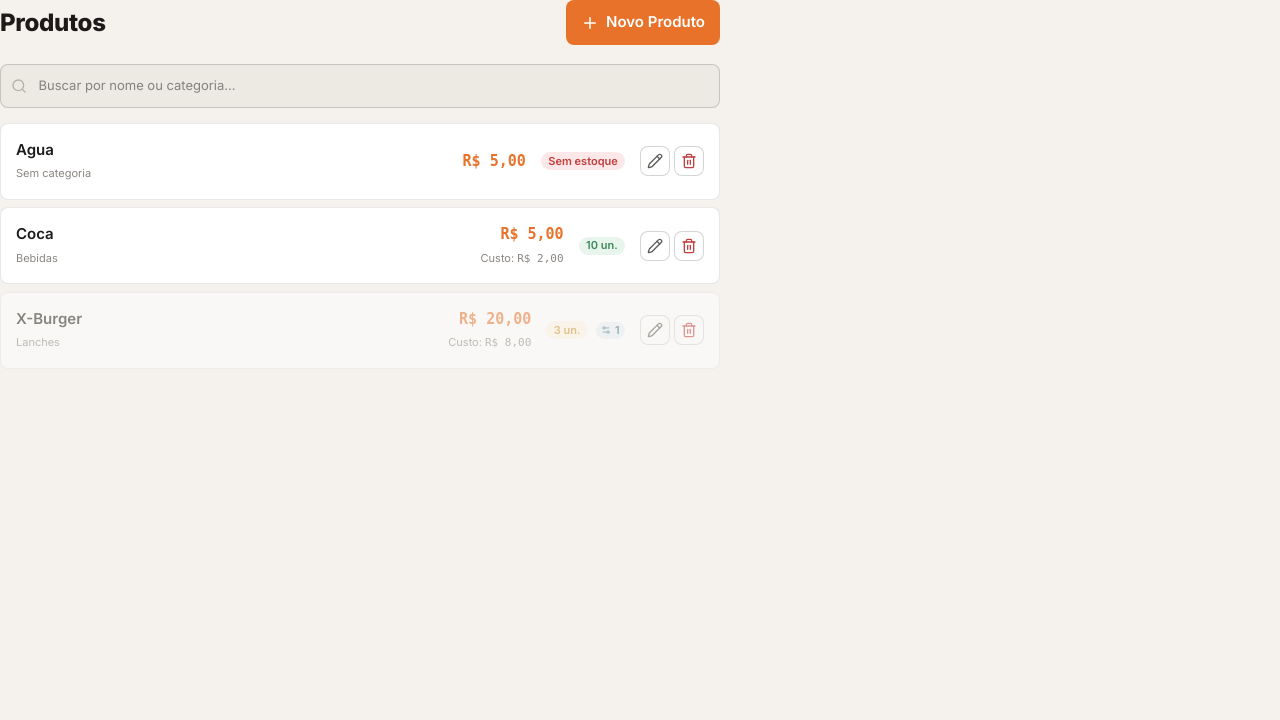
Test: ProductsPage › edits an existing product, toggling status to inactive
Expected: the text "Coca" is shown, [16, 224, 54, 243]
Click the button named "Editar Coca". click: (655, 246)
box: [640, 231, 670, 261]
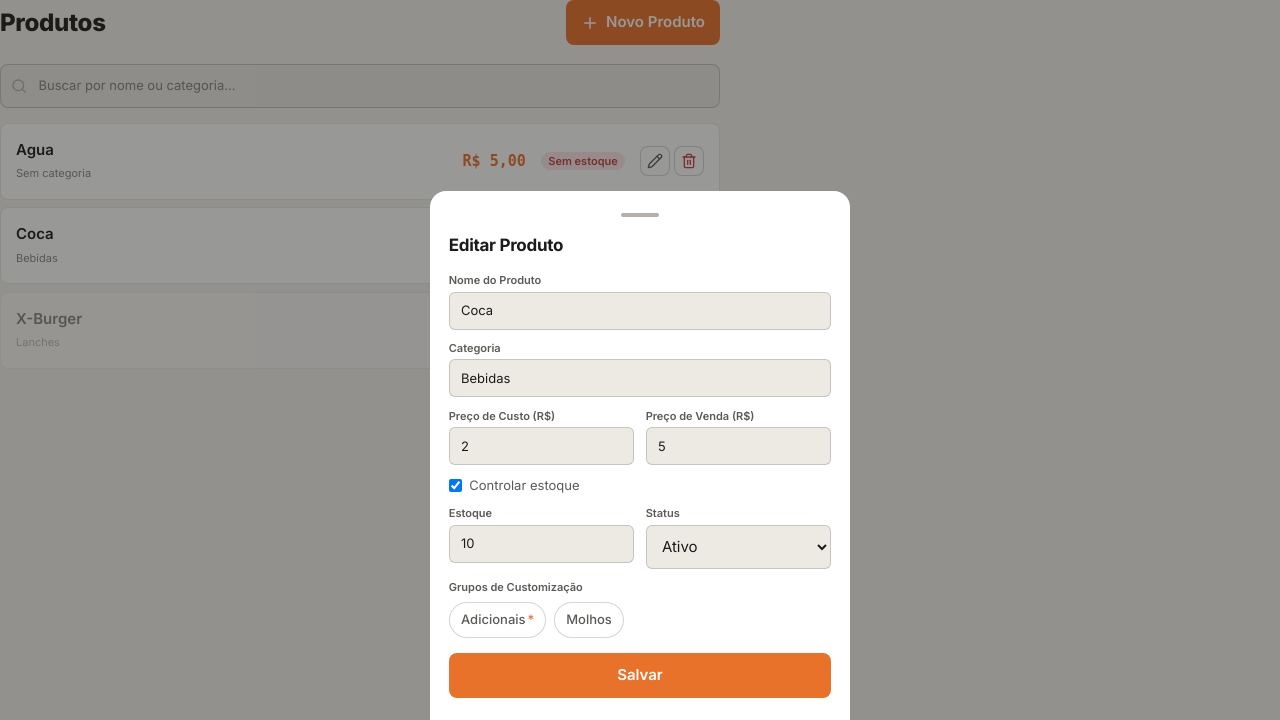
Expected: the field labelled "Nome do Produto" holds "Coca", [449, 292, 831, 330]
Select "Inativo" in the dropdown labelled "Status". click: (738, 546)
box: [646, 524, 831, 568]
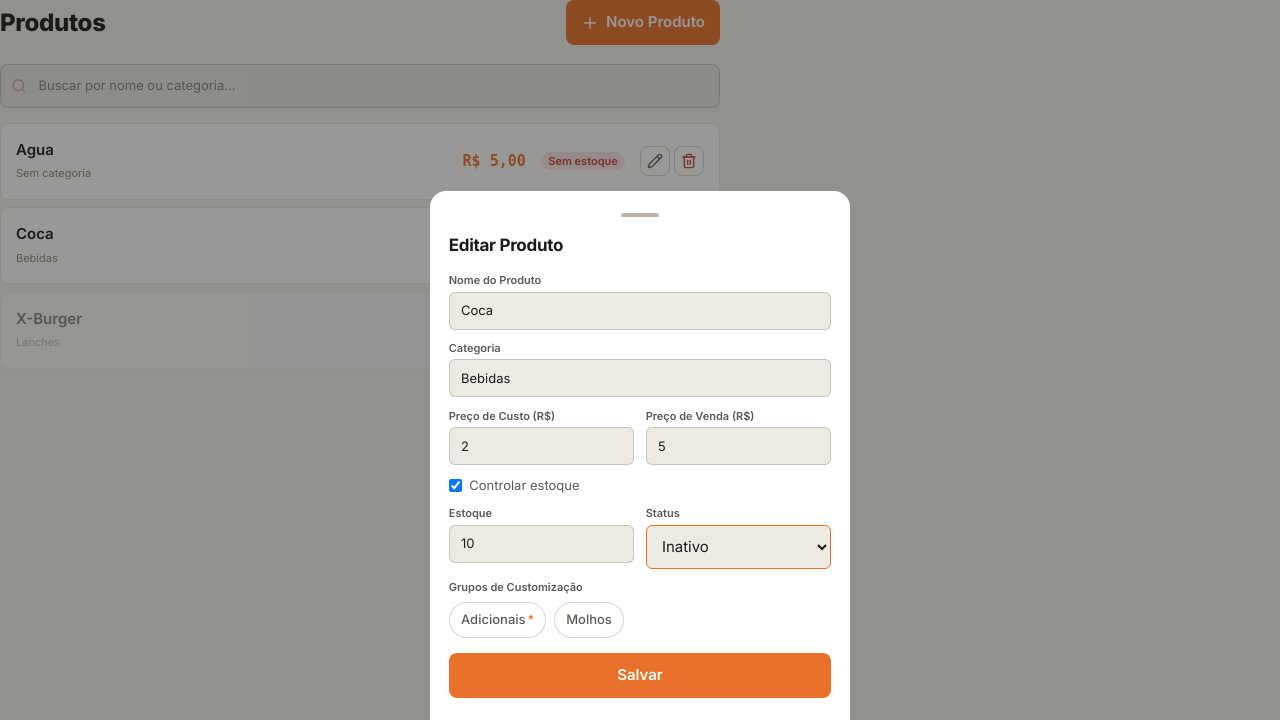
Click the button "Salvar". click: (640, 675)
box: [449, 652, 831, 698]
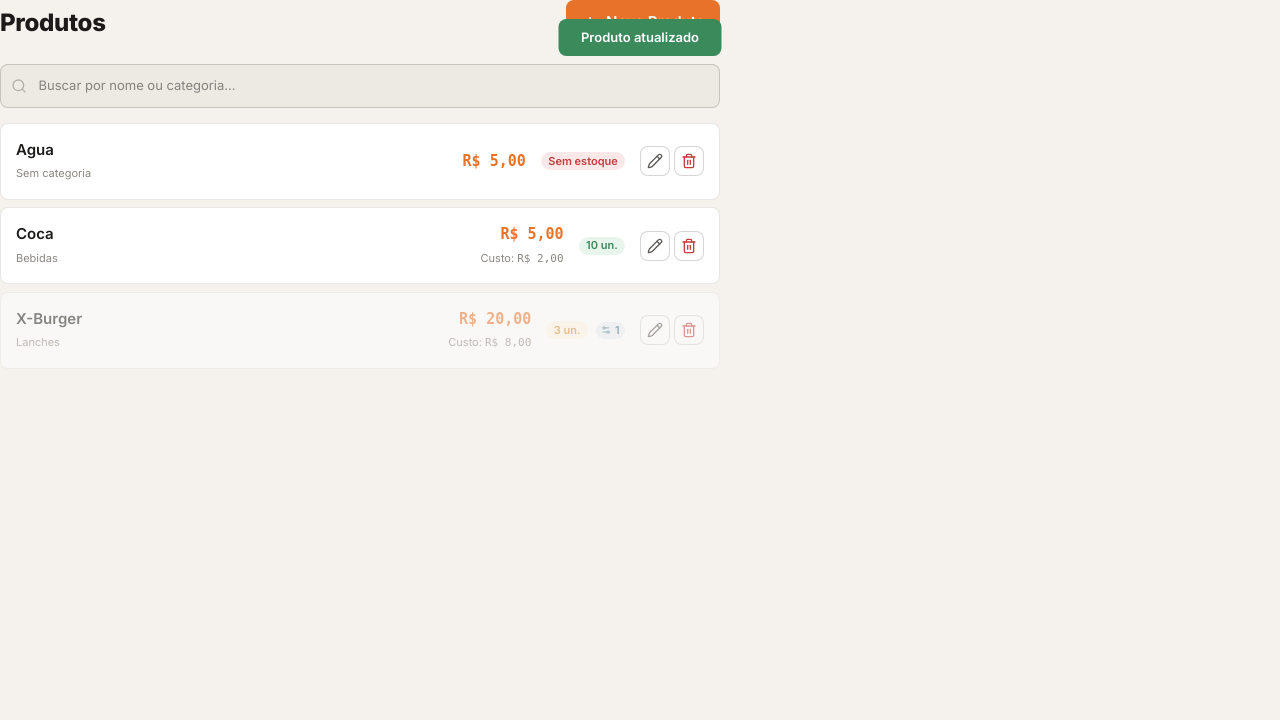
Expected: the dialog is gone
